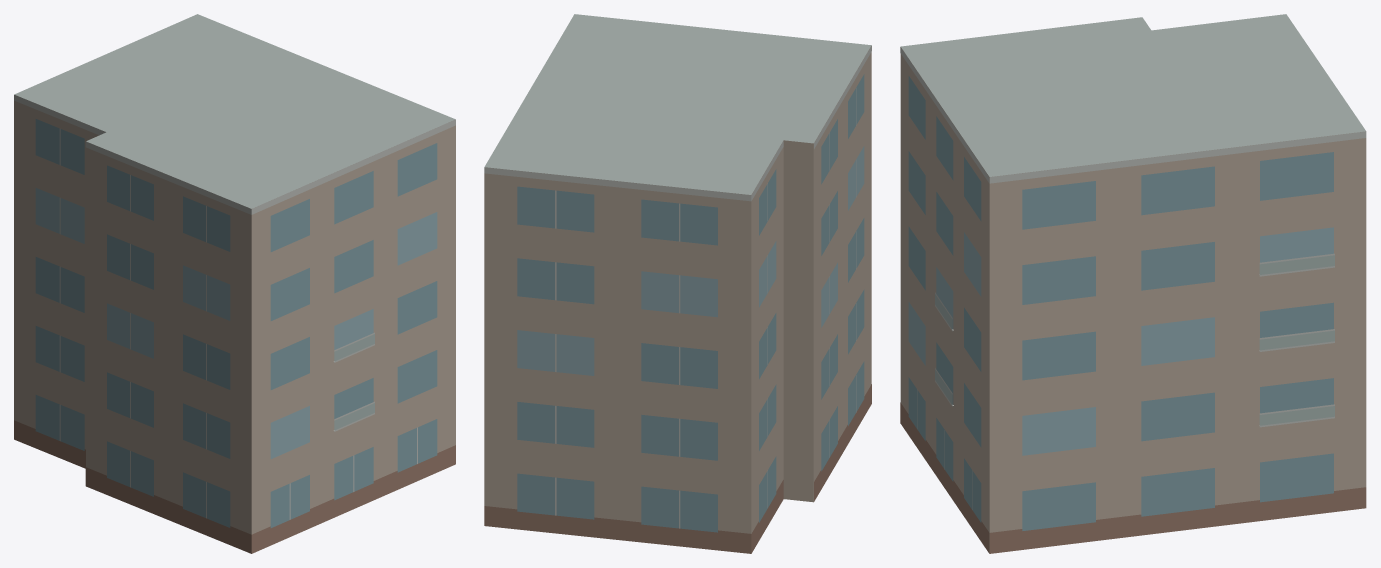
The model's file is survey-upis-32751381.glb.
The picture shows the model from 3 angles, left to right: view 1: azimuth 30°, elevation 25°; view 2: azimuth 150°, elevation 25°; view 3: azimuth 270°, elevation 25°; orthographic projection. The views are drawn at different scales.
Parts seen in each view (by area): view 1: survey-upis-32751381.tmp; view 2: survey-upis-32751381.tmp; view 3: survey-upis-32751381.tmp.
Part boxes in pixels (bbox=[...]): survey-upis-32751381.tmp: bbox=[14, 14, 455, 553]; survey-upis-32751381.tmp: bbox=[484, 14, 871, 553]; survey-upis-32751381.tmp: bbox=[900, 14, 1366, 553].
Size of the model in its own units: 12.96 by 13.95 by 15.64.
